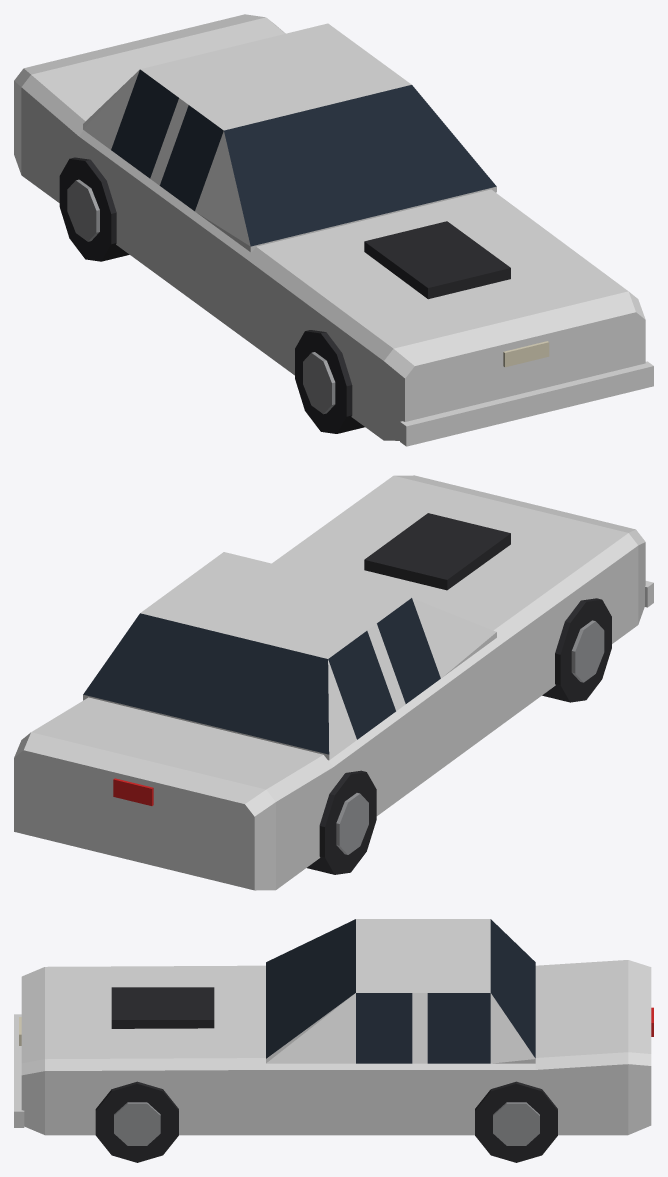
The model's file is voiture_muscle.glb.
3 renders of one model, top to bottom at view 1: azimuth 30°, elevation 25°; view 2: azimuth 150°, elevation 25°; view 3: azimuth 270°, elevation 25°, orthographic. The views are drawn at different scales.
Visible parts, largest first — view 1: voiture_muscle; view 2: voiture_muscle; view 3: voiture_muscle.
Boxes of the visible parts, x1,y1,x2,y2 form: voiture_muscle: (14,14,653,446); voiture_muscle: (14,475,653,890); voiture_muscle: (14,919,653,1162).
Bounding box in the file's own units: 1.97 × 1.33 × 4.98.
